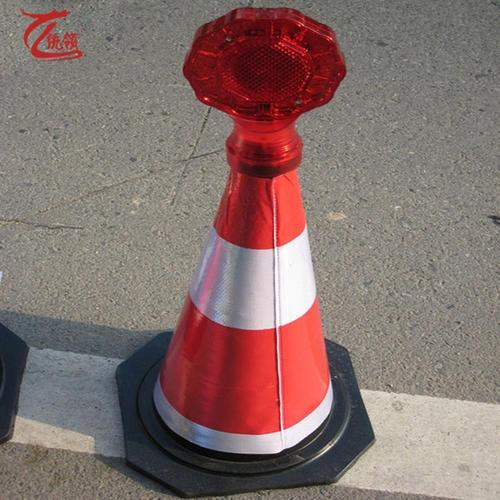cone_barrel: (142, 17, 351, 465)
